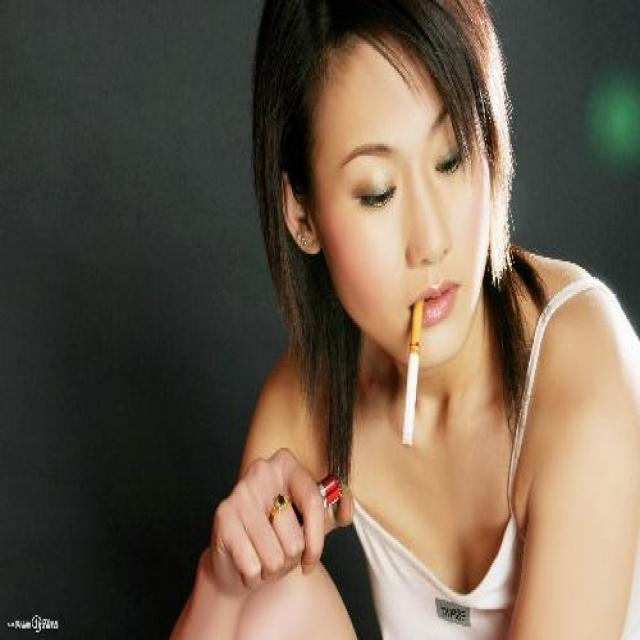smoking: (396, 295, 426, 446)
